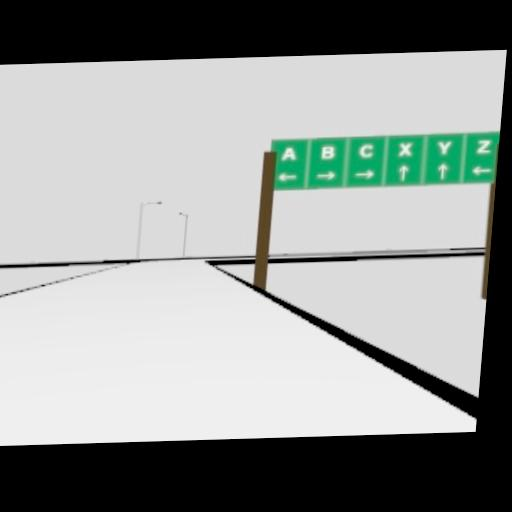A: (281, 146, 297, 160)
B: (320, 145, 336, 159)
C: (357, 142, 374, 158)
Left: (471, 165, 491, 176), (276, 173, 296, 181)
Right: (354, 168, 374, 179), (315, 170, 335, 180)
Straight: (397, 164, 409, 181), (436, 163, 448, 180)
X: (398, 142, 412, 155)
Y: (437, 141, 451, 154)
Z: (476, 140, 492, 153)
